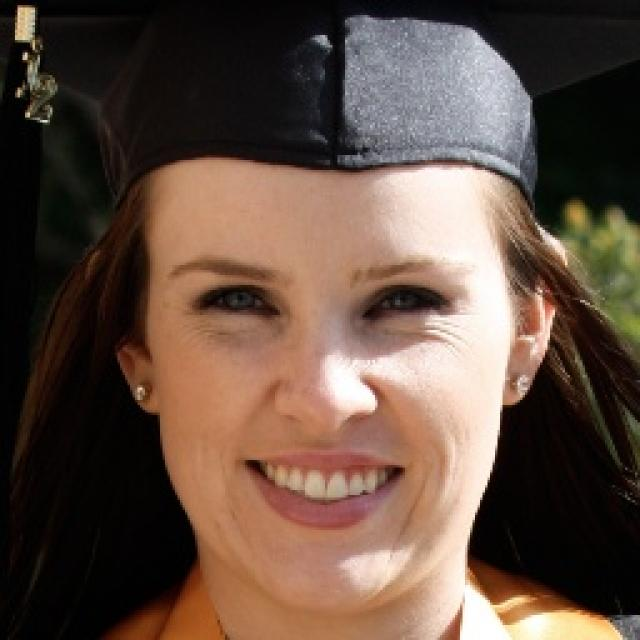earlobe: (502, 358, 541, 408), (127, 374, 166, 417)
eye: (196, 281, 282, 329), (365, 285, 454, 328)
nose: (276, 410, 382, 449)
wholeear: (86, 248, 165, 418), (502, 233, 567, 408)
